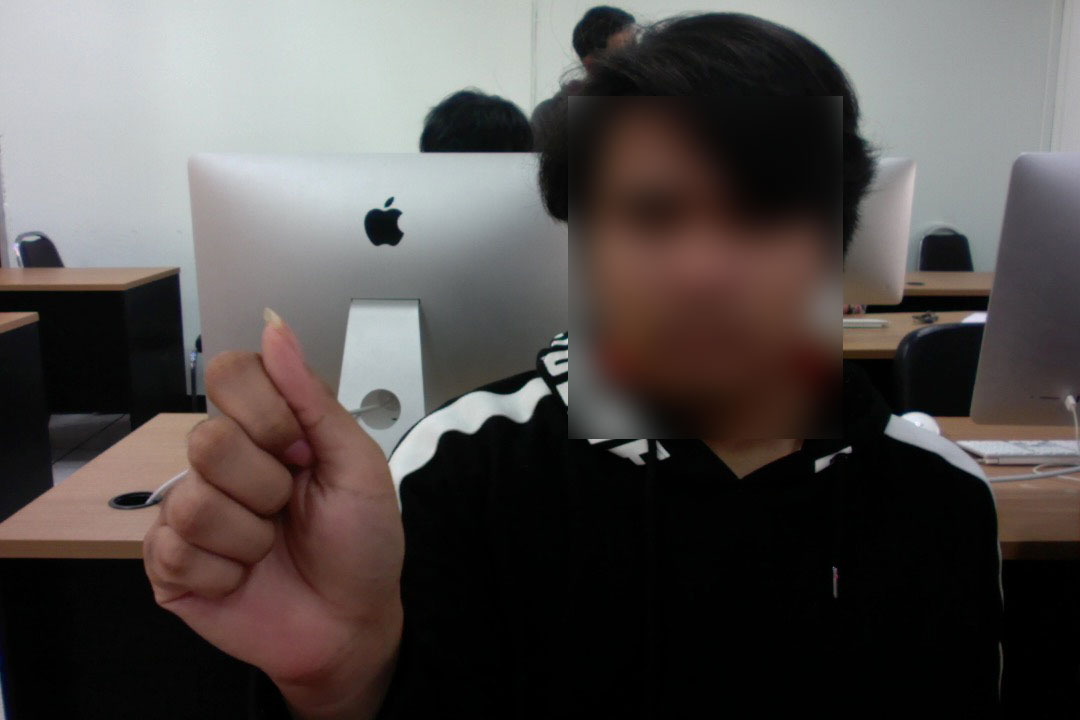or: (128, 292, 420, 687)
